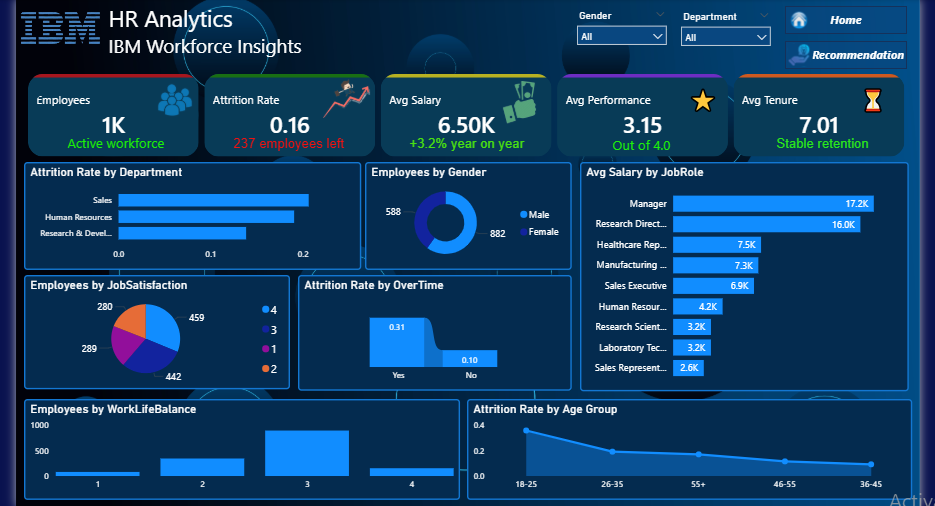

Layout of this report page (visuals, bound fields, positions):
{"tool":"powerbi","page":{"name":"Dashboard","canvas":[1280,720],"ordinal":1},"visuals":[{"type":"actionButton","box":[1089.9,59.5,172.9,39.7],"z":0},{"type":"actionButton","box":[1089.9,9.9,172.9,39.7],"z":1000},{"type":"textbox","box":[126.1,0,320.3,99.2],"z":2000},{"type":"image","box":[0,0,136.1,89.3],"z":3000},{"type":"cardVisual","fields":{"Data":["Measures (2).Total Employees","Measures (2).Attrition Rate","Measures (2).Avg Salary","Measures (2).Avg Performance","Measures (2).Avg Tenure"]},"box":[0,89.3,1279.8,151.7],"z":4000},{"type":"textbox","box":[68,185.7,157.3,42.5],"z":5000},{"type":"textbox","box":[303.3,188.5,191.3,39.7],"z":6000},{"type":"textbox","box":[552.8,188.5,198.4,41.1],"z":7000},{"type":"textbox","box":[1072.9,188.5,163,39.7],"z":8000},{"type":"textbox","box":[840.5,188.5,113.4,41.1],"z":9000},{"type":"clusteredBarChart","fields":{"Category":["WA_Fn-UseC_-HR-Employee-Attrition.Department"],"Y":["Measures (2).Attrition Rate"]},"box":[11.3,231,477.6,153.1],"z":10000},{"type":"clusteredBarChart","fields":{"Category":["WA_Fn-UseC_-HR-Employee-Attrition.JobRole"],"Y":["Measures (2).Avg Salary"]},"box":[799.4,231,466.3,324.6],"z":11000},{"type":"columnChart","fields":{"Y":["Measures (2).Attrition Rate"],"Category":["WA_Fn-UseC_-HR-Employee-Attrition.OverTime"]},"box":[399.7,391.2,388.3,164.4],"z":12000},{"type":"donutChart","title":"Employees by Gender","fields":{"Y":["Measures (2).Total Employees"],"Category":["WA_Fn-UseC_-HR-Employee-Attrition.Gender"]},"box":[494.6,231,293.4,153.1],"z":13000},{"type":"pieChart","title":"Employees by JobSatisfaction","fields":{"Y":["Measures (2).Total Employees"],"Category":["WA_Fn-UseC_-HR-Employee-Attrition.JobSatisfaction"]},"box":[11.3,391.2,377,161.6],"z":14000},{"type":"clusteredColumnChart","title":"Employees by WorkLifeBalance","fields":{"Category":["WA_Fn-UseC_-HR-Employee-Attrition.WorkLifeBalance"],"Y":["Measures (2).Total Employees"]},"box":[11.3,566.9,618,143.1],"z":15000},{"type":"lineChart","fields":{"Category":["WA_Fn-UseC_-HR-Employee-Attrition.Age Group"],"Y":["Measures (2).Attrition Rate"]},"box":[639.2,566.9,630.7,143.1],"z":16000},{"type":"slicer","fields":{"Values":["WA_Fn-UseC_-HR-Employee-Attrition.Department"]},"box":[932.6,11.3,147.4,68],"z":17000},{"type":"slicer","fields":{"Values":["WA_Fn-UseC_-HR-Employee-Attrition.Gender"]},"box":[785.2,9.9,147.4,87.9],"z":18000},{"type":"image","box":[199.8,110.6,51,65.2],"z":19000},{"type":"textbox","box":[946.8,114.8,59.5,60.9],"z":20000},{"type":"textbox","box":[1193.4,114.8,59.5,63.8],"z":21000},{"type":"image","box":[422.4,99.2,96.4,69.4],"z":22000},{"type":"image","box":[676.1,116.2,75.1,59.5],"z":23000}]}

Visuals, with their boxes on the page's 1280x720 design canvas (x1, y1, x2, y2). These are canvas units, not pixel positions in the 935x506 screenshot, which may show the page scaled, cropped or inside an application window:
actionButton: 1090/60/1263/99
actionButton: 1090/10/1263/50
textbox: 126/0/446/99
image: 0/0/136/89
cardVisual - Measures (2).Total Employees x Measures (2).Attrition Rate: 0/89/1280/241
textbox: 68/186/225/228
textbox: 303/188/495/228
textbox: 553/188/751/230
textbox: 1073/188/1236/228
textbox: 840/188/954/230
clusteredBarChart - WA_Fn-UseC_-HR-Employee-Attrition.Department x Measures (2).Attrition Rate: 11/231/489/384
clusteredBarChart - WA_Fn-UseC_-HR-Employee-Attrition.JobRole x Measures (2).Avg Salary: 799/231/1266/556
columnChart - Measures (2).Attrition Rate x WA_Fn-UseC_-HR-Employee-Attrition.OverTime: 400/391/788/556
"Employees by Gender" donutChart: 495/231/788/384
"Employees by JobSatisfaction" pieChart: 11/391/388/553
"Employees by WorkLifeBalance" clusteredColumnChart: 11/567/629/710
lineChart - WA_Fn-UseC_-HR-Employee-Attrition.Age Group x Measures (2).Attrition Rate: 639/567/1270/710
slicer - WA_Fn-UseC_-HR-Employee-Attrition.Department: 933/11/1080/79
slicer - WA_Fn-UseC_-HR-Employee-Attrition.Gender: 785/10/933/98
image: 200/111/251/176
textbox: 947/115/1006/176
textbox: 1193/115/1253/179
image: 422/99/519/169
image: 676/116/751/176
